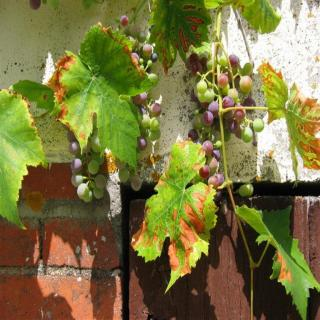Grape: (182, 51, 264, 200), (121, 17, 161, 153), (64, 125, 105, 203), (118, 169, 129, 183), (133, 178, 142, 192), (115, 158, 125, 168), (245, 185, 253, 196), (240, 187, 247, 196), (130, 170, 136, 180)
